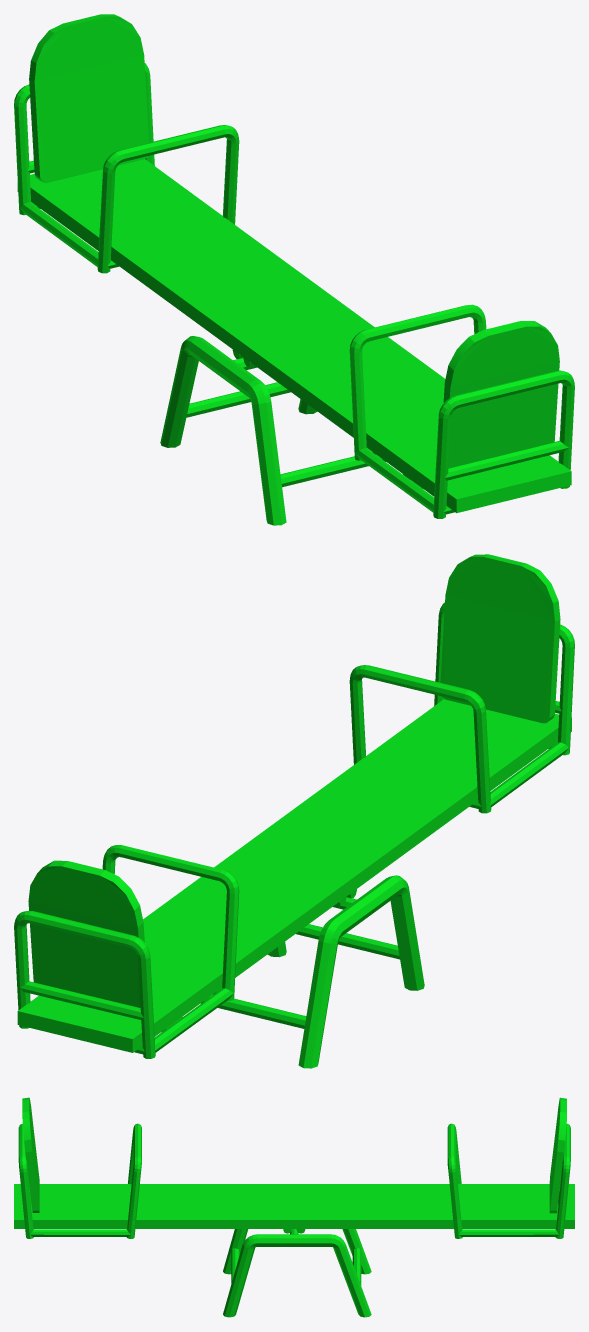
The model's file is Recreation_2.fbx.
The picture shows the model from 3 angles, top to bottom: view 1: azimuth 30°, elevation 25°; view 2: azimuth 150°, elevation 25°; view 3: azimuth 270°, elevation 25°; orthographic projection. The views are drawn at different scales.
Visible parts, largest first — view 1: Recreation_2; view 2: Recreation_2; view 3: Recreation_2.
Boxes of the visible parts, left/top/right/bottom form: Recreation_2: left=14, top=14, right=574, bottom=525; Recreation_2: left=14, top=554, right=574, bottom=1068; Recreation_2: left=14, top=1097, right=574, bottom=1317.
Bounding box in the file's own units: 886 × 1592 × 4314.
